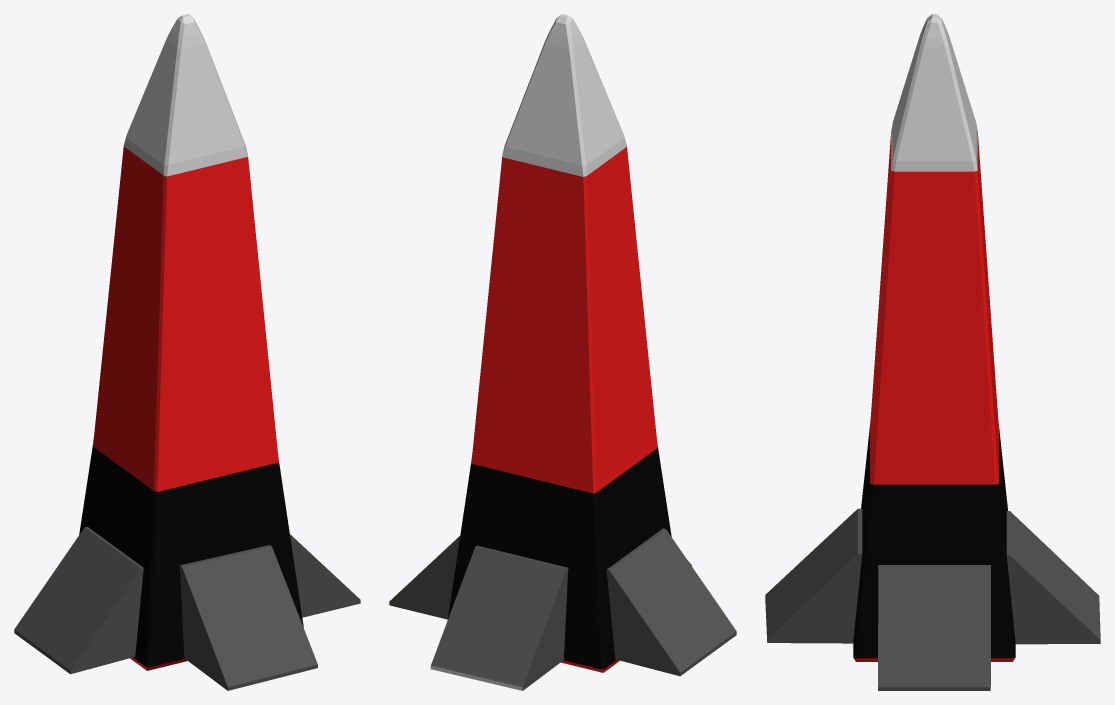
File: Misil.fbx
3 renders of one model, left to right at view 1: azimuth 30°, elevation 25°; view 2: azimuth 150°, elevation 25°; view 3: azimuth 270°, elevation 25°, orthographic.
Visible parts, largest first — view 1: misil; view 2: misil; view 3: misil.
Part boxes in pixels (<box>): misil: <box>14,14,360,690</box>; misil: <box>389,14,736,690</box>; misil: <box>765,14,1100,690</box>.
Size of the model in its own units: 0.5 by 1 by 0.5.
